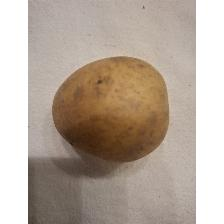Kartoffel: (48, 55, 172, 167)
